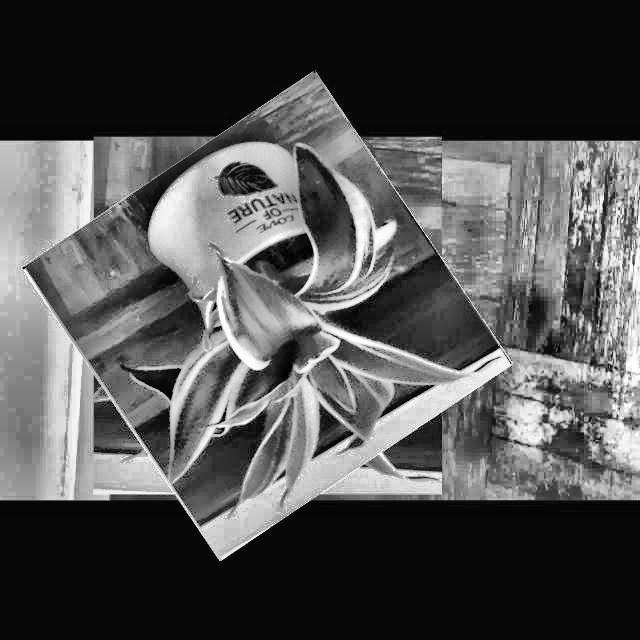plants: (56, 104, 478, 526)
